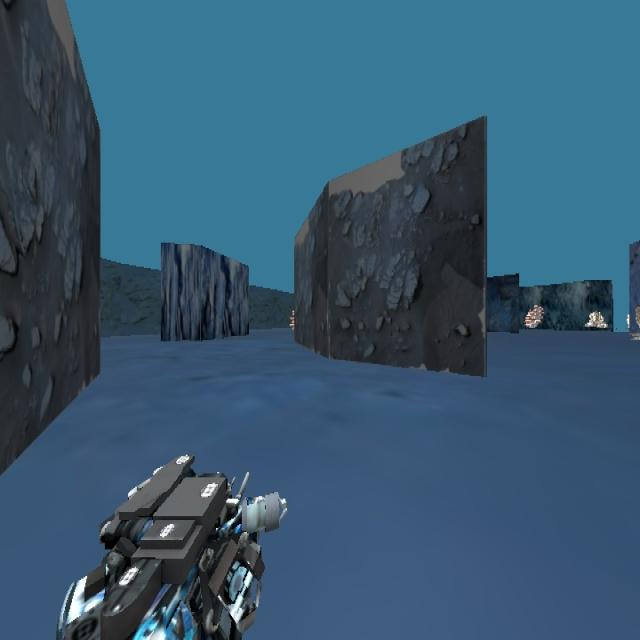Mushroom: (288, 308, 294, 329)
